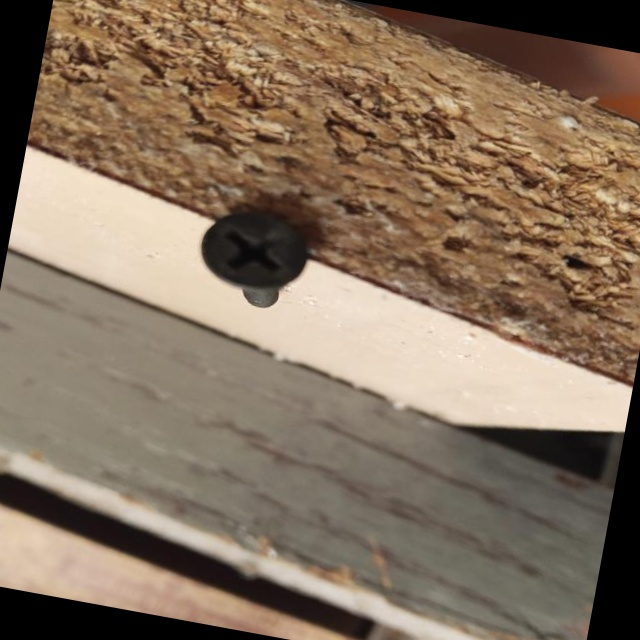phillips: (194, 200, 316, 299)
